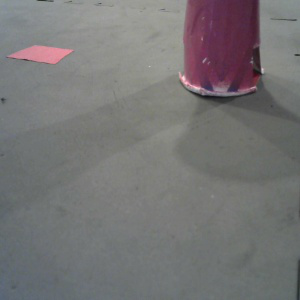right: (177, 1, 268, 100)
